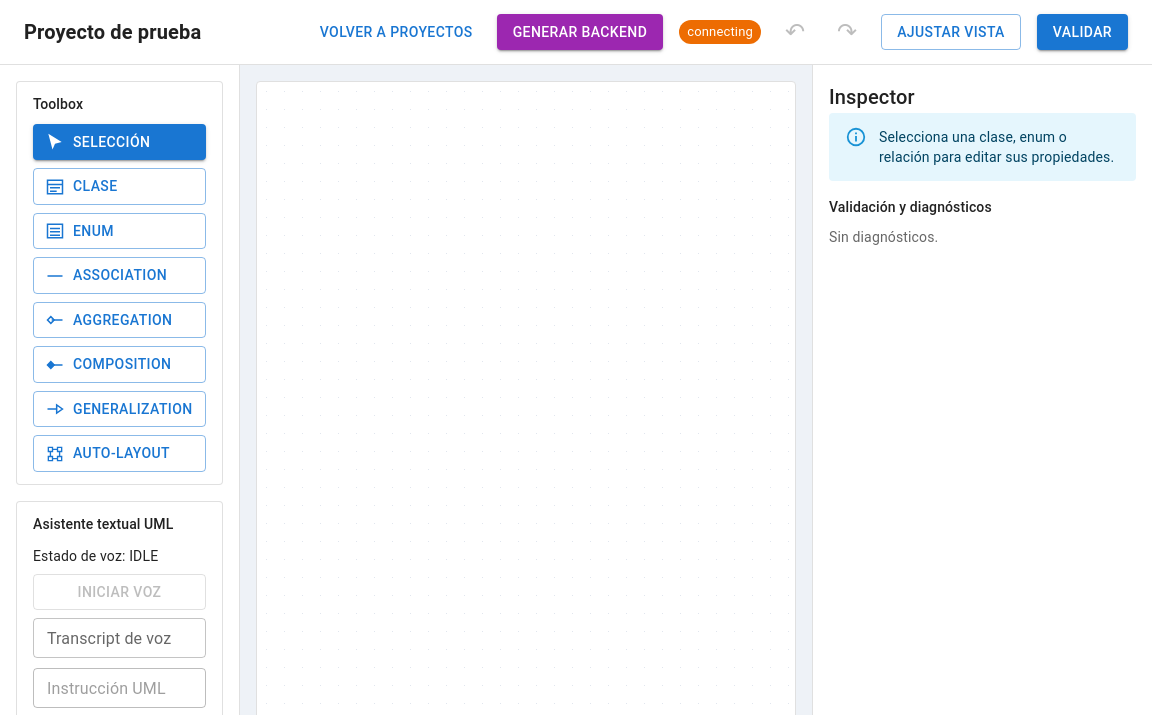
Scenario: ruta de workspace persistido › muestra Generar backend para VIEWER y permite cancelar su configuración
The image size is (1152, 715).
Click the button "Generar backend": (580, 32) [497,14,663,50]
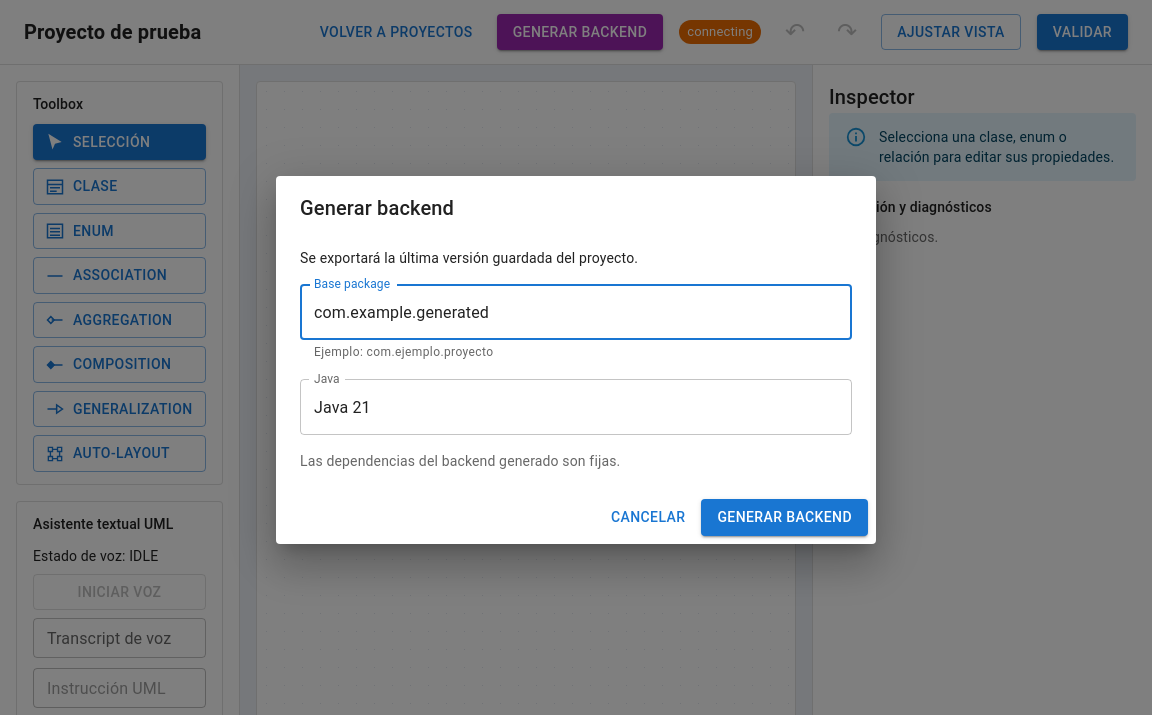
Now the heading "Generar backend" is shown, box [300,196,454,220]
Now the field labelled "Base package" holds "com.example.generated"
Now the field labelled "Java" holds "Java 21", box [300,379,852,435]
Replace the text in the field labelled "Base package" with "../inseguro": (576, 312) [300,284,852,340]
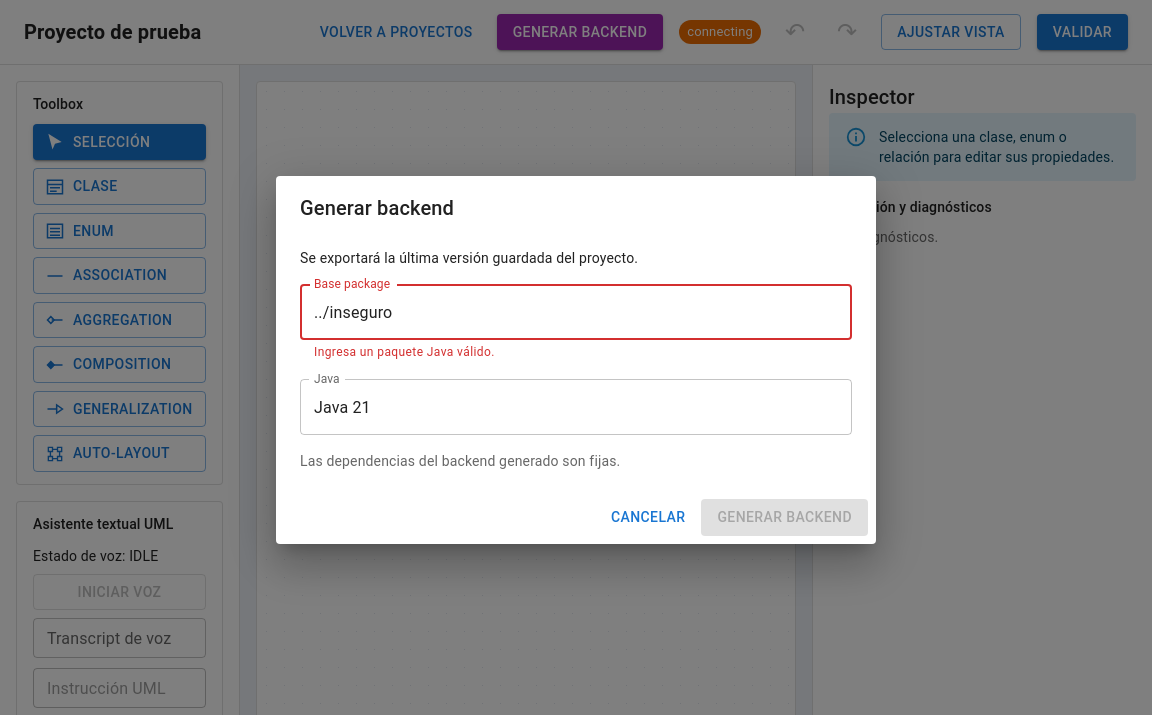
Now the text "Ingresa un paquete Java válido." is shown, box [314,345,495,359]
Now the button "Generar backend" is disabled, box [701,499,868,536]
Click the button "Cancelar": (648, 517) [603,499,693,536]
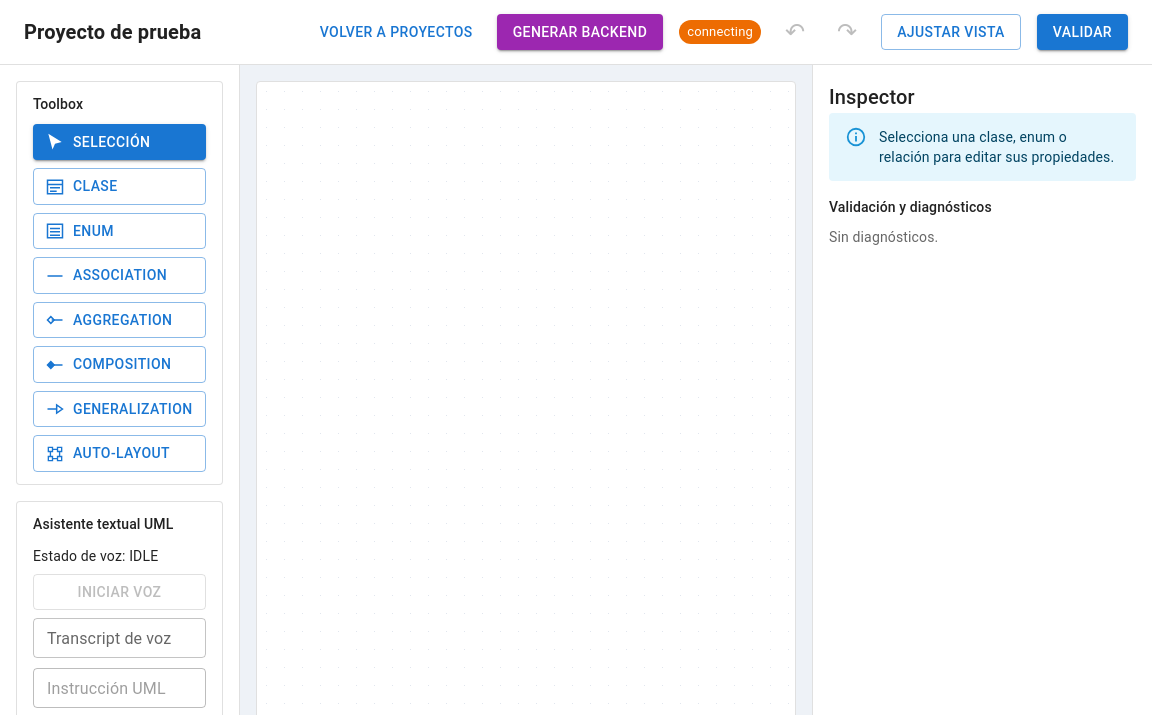
Now the dialog is gone
